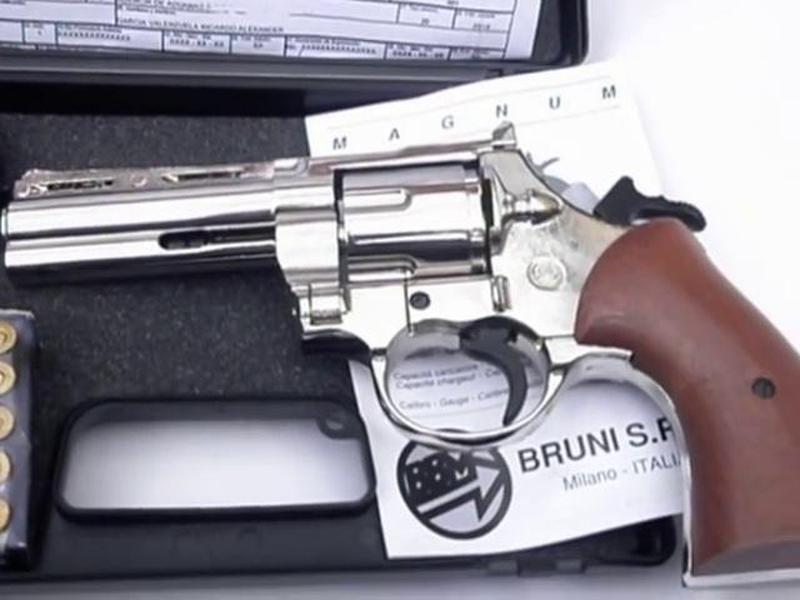Revolver: (11, 127, 794, 524)
